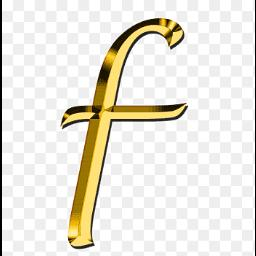f: (62, 15, 190, 245)
